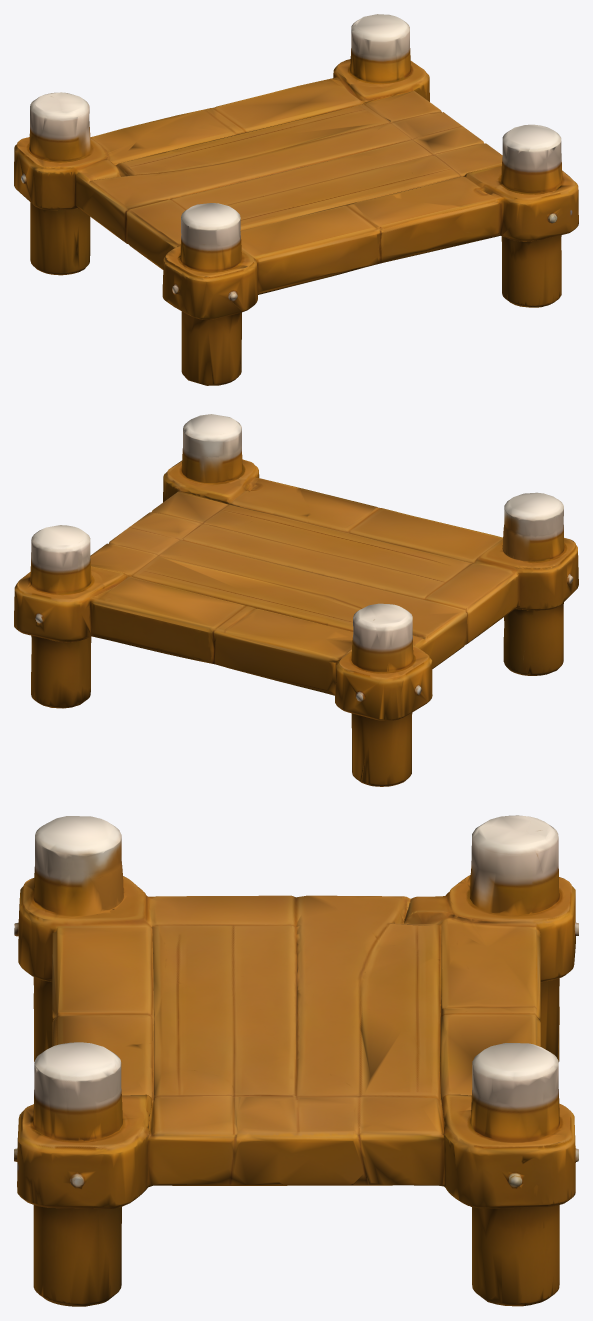
Rendered from dock.glb.
The picture shows the model from 3 angles, top to bottom: view 1: azimuth 30°, elevation 25°; view 2: azimuth 150°, elevation 25°; view 3: azimuth 270°, elevation 25°; orthographic projection. The views are drawn at different scales.
Parts seen in each view (by area): view 1: node_0; view 2: node_0; view 3: node_0.
Boxes of the visible parts, x1=… form: node_0: x1=14, y1=14, x2=578, y2=385; node_0: x1=14, y1=414, x2=578, y2=786; node_0: x1=14, y1=815, x2=578, y2=1306.
Size of the model in its own units: 0.9498 by 0.3709 by 0.8116.
1 material, 1 textured.
